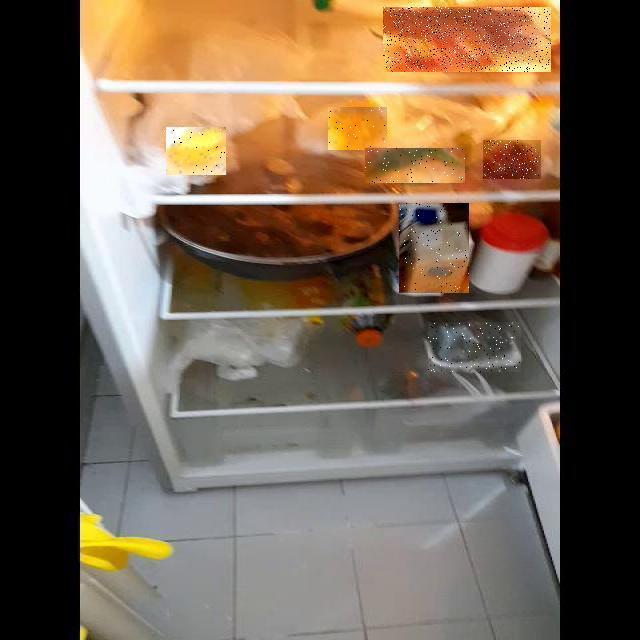broccoli: (167, 186, 640, 558)
carrot: (107, 36, 640, 108)
milk: (164, 146, 634, 440)
